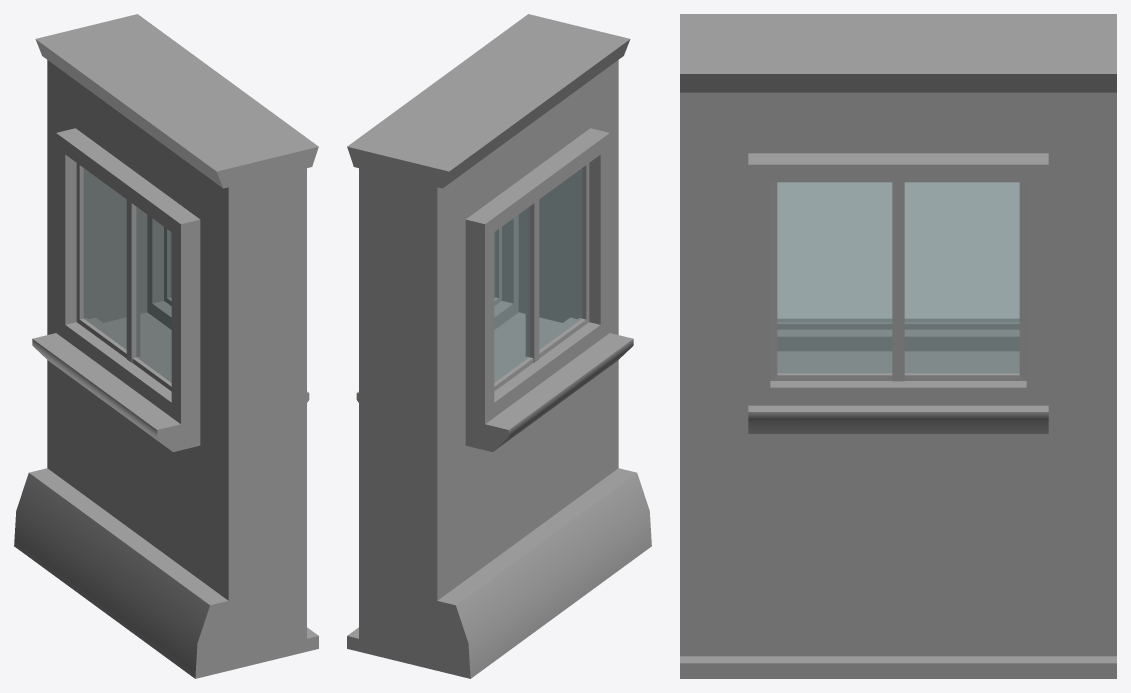
The model's file is SM_Wall_Window_Glass.fbx.
3 views of the same model, side by side, from view 1: azimuth 30°, elevation 25°; view 2: azimuth 150°, elevation 25°; view 3: azimuth 270°, elevation 25° (orthographic). The views are drawn at different scales.
Visible parts, largest first — view 1: SM_Wall_Window_Glass; view 2: SM_Wall_Window_Glass; view 3: SM_Wall_Window_Glass.
Part boxes in pixels (x1,y1,x2,y2): SM_Wall_Window_Glass: [14, 14, 318, 678]; SM_Wall_Window_Glass: [347, 14, 651, 678]; SM_Wall_Window_Glass: [680, 14, 1116, 678].
Bounding box in the file's own units: 0.9689 × 3.06 × 2.
